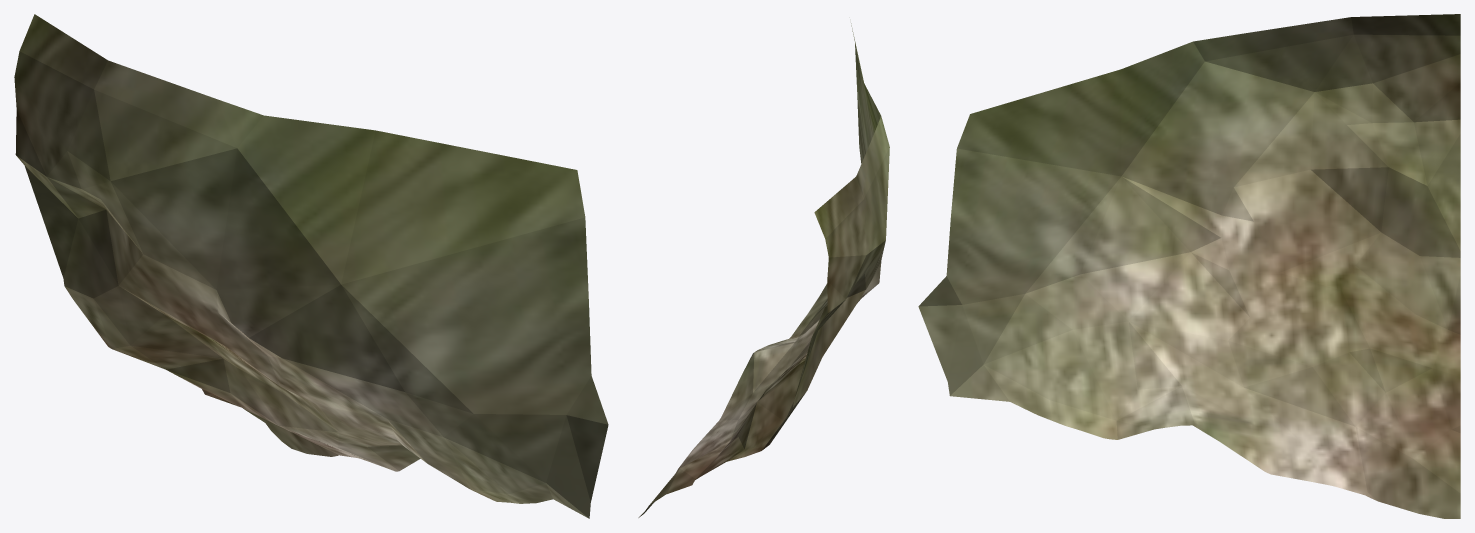
The picture shows the model from 3 angles, left to right: view 1: azimuth 30°, elevation 25°; view 2: azimuth 150°, elevation 25°; view 3: azimuth 270°, elevation 25°; orthographic projection. The views are drawn at different scales.
Size of the model in its own units: 0.7917 by 1.38 by 1.68.
Materials: 1 (1 with a texture image).
